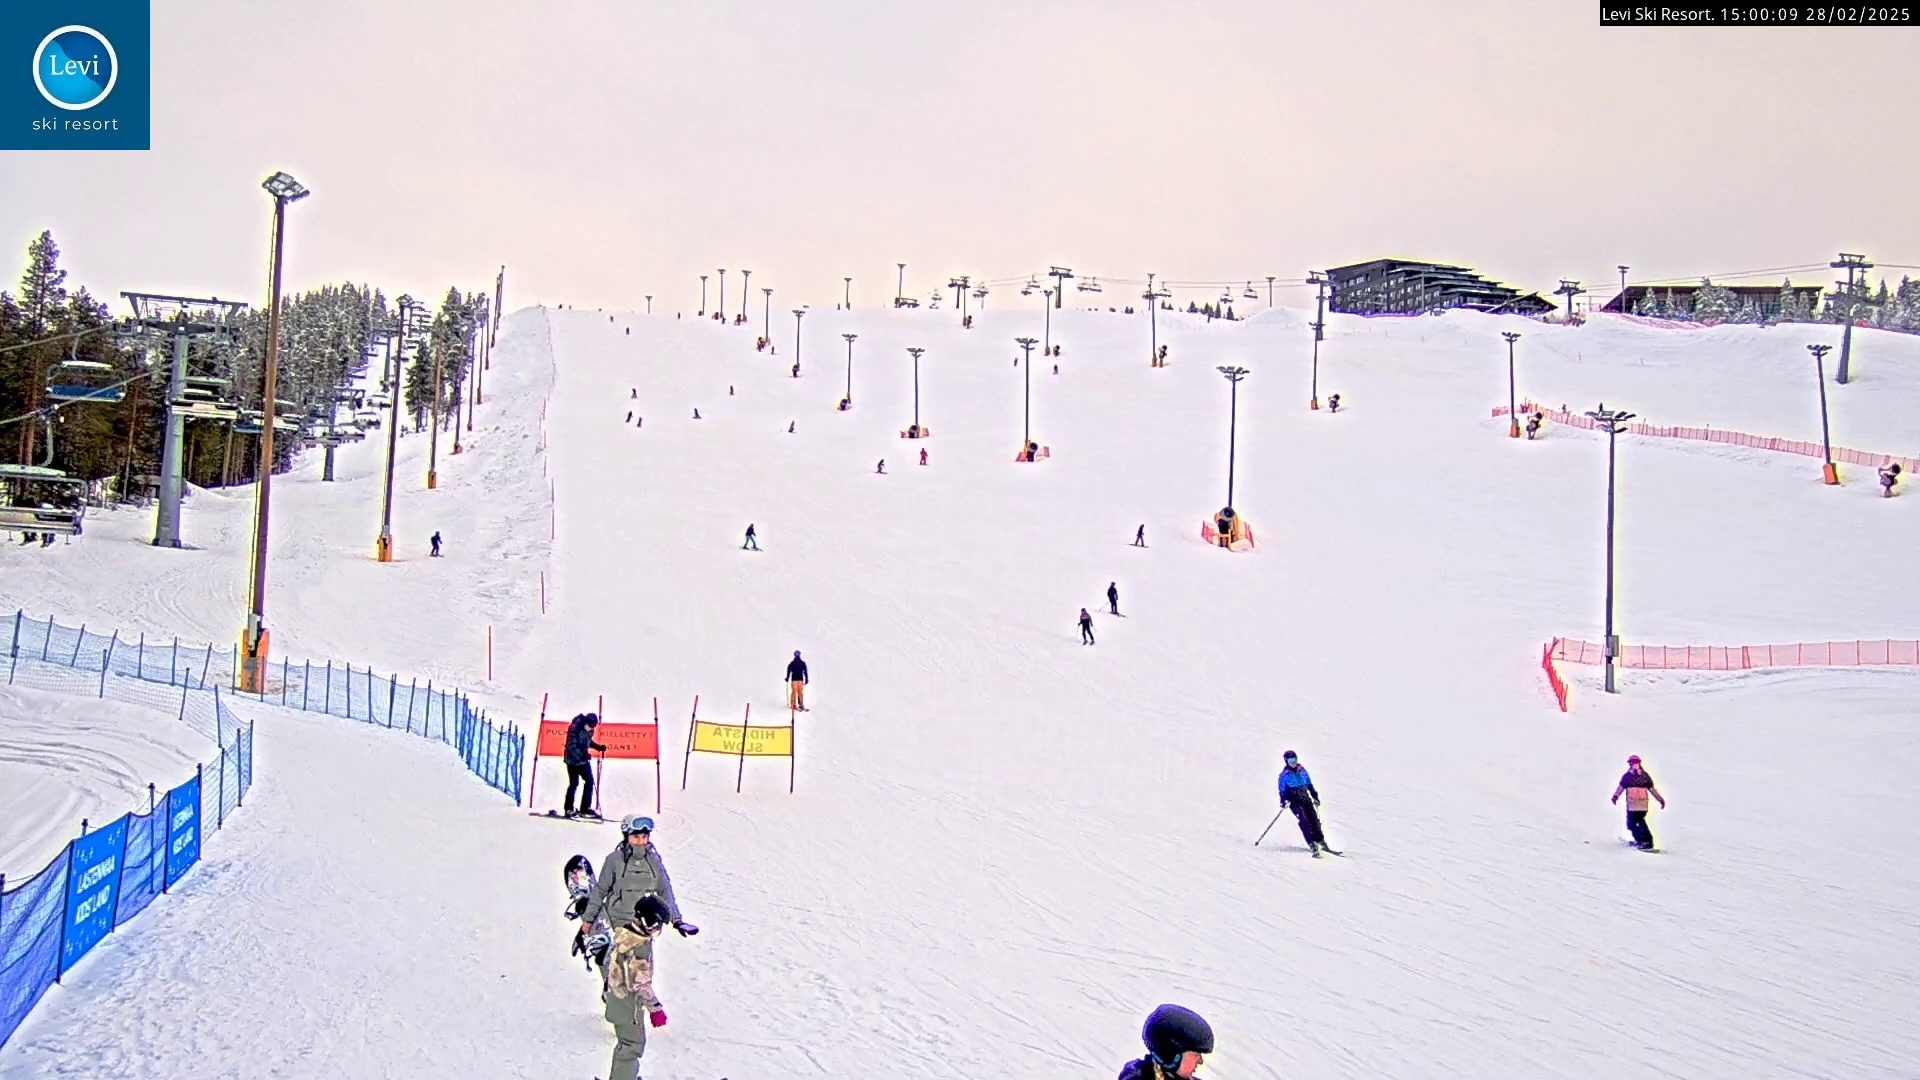skier: (1250, 744, 1346, 858)
snowboarder: (1611, 757, 1669, 852)
